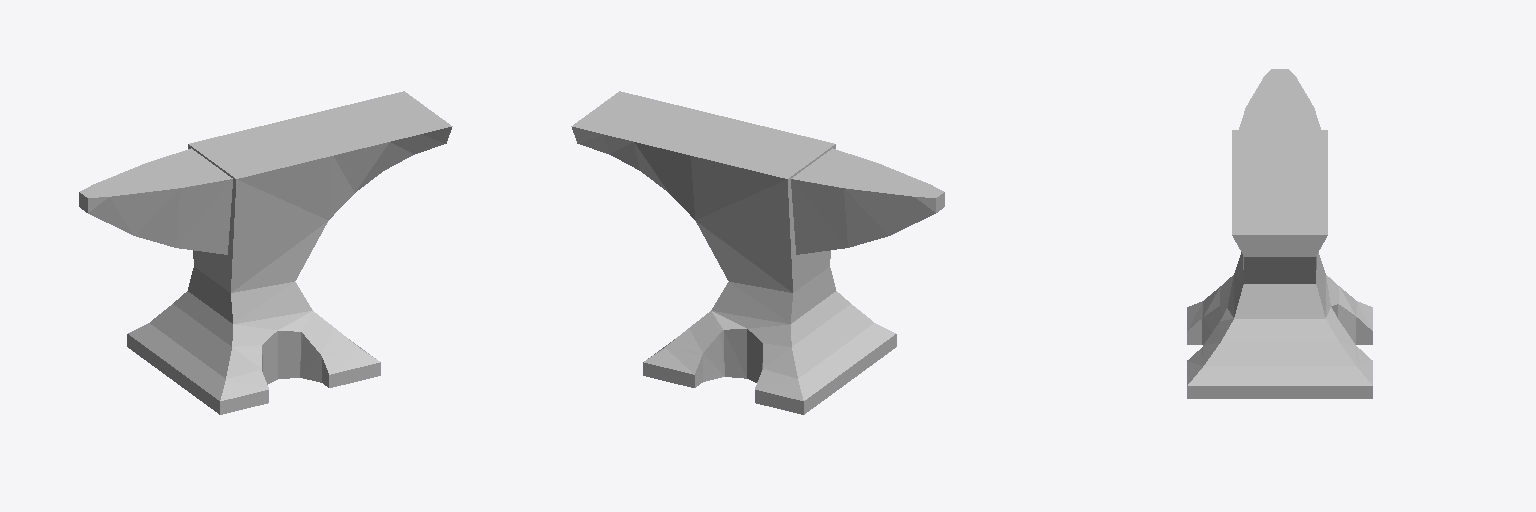
The model's file is anvil.obj.
3 views of the same model, side by side, from view 1: azimuth 30°, elevation 25°; view 2: azimuth 150°, elevation 25°; view 3: azimuth 270°, elevation 25° (orthographic).
Visible parts, largest first — view 1: anvil; view 2: anvil; view 3: anvil.
Part boxes in pixels (left/top/right/bottom): anvil: left=79, top=91, right=452, bottom=414; anvil: left=571, top=91, right=944, bottom=414; anvil: left=1187, top=69, right=1372, bottom=398.
Bounding box in the file's own units: 1.74 × 1.01 × 0.8115.